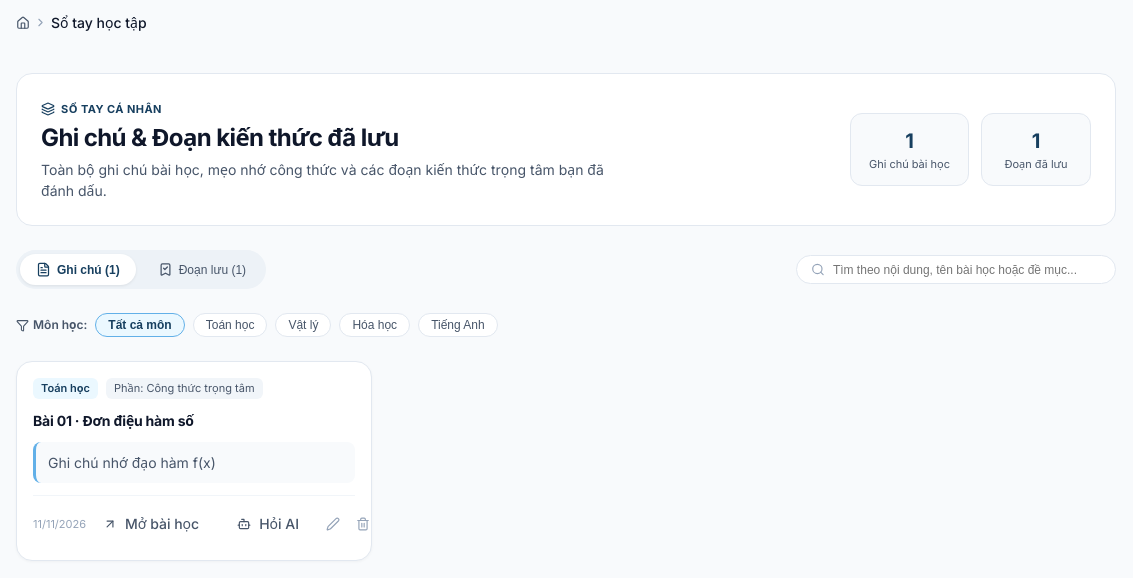
Test: MyNotesPage › renders notes and switches to bookmarks tab
Expected: the heading "Ghi chú & Đoạn kiến thức đã lưu" is shown, [41,123,399,152]
Expected: the text "Ghi chú nhớ đạo hàm f(x)" is shown, [33,442,355,483]
# Switch to Bookmarks tab
Step 1. Click the tab "Đoạn lưu (1)" → (202, 270), box [142,254,262,285]
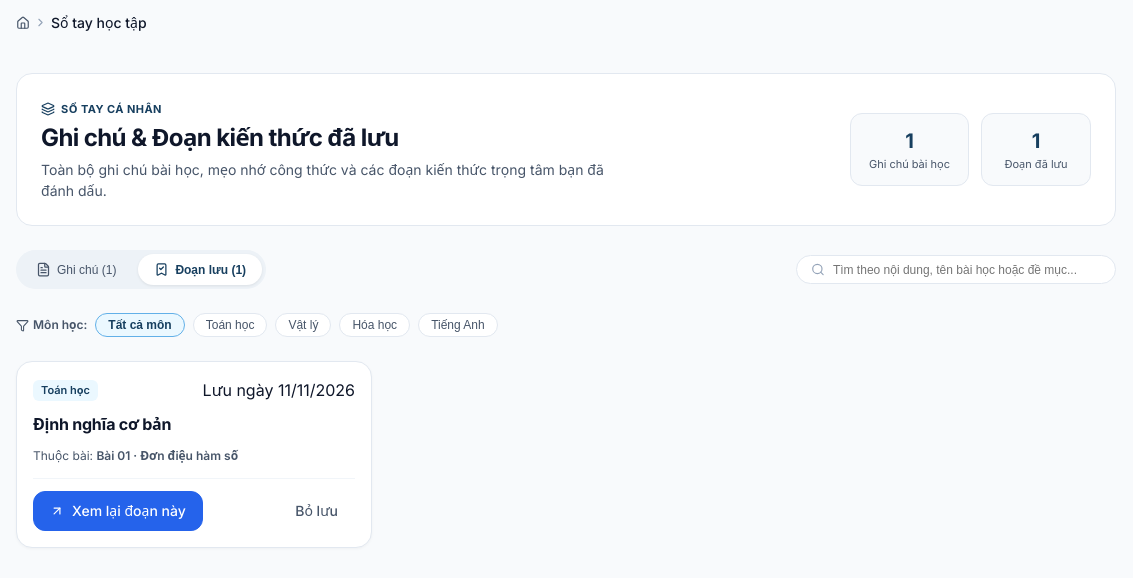
Now the heading "Định nghĩa cơ bản" is shown, box [33,414,171,434]
Now the text "Xem lại đoạn này" is shown, box [72,504,186,518]
